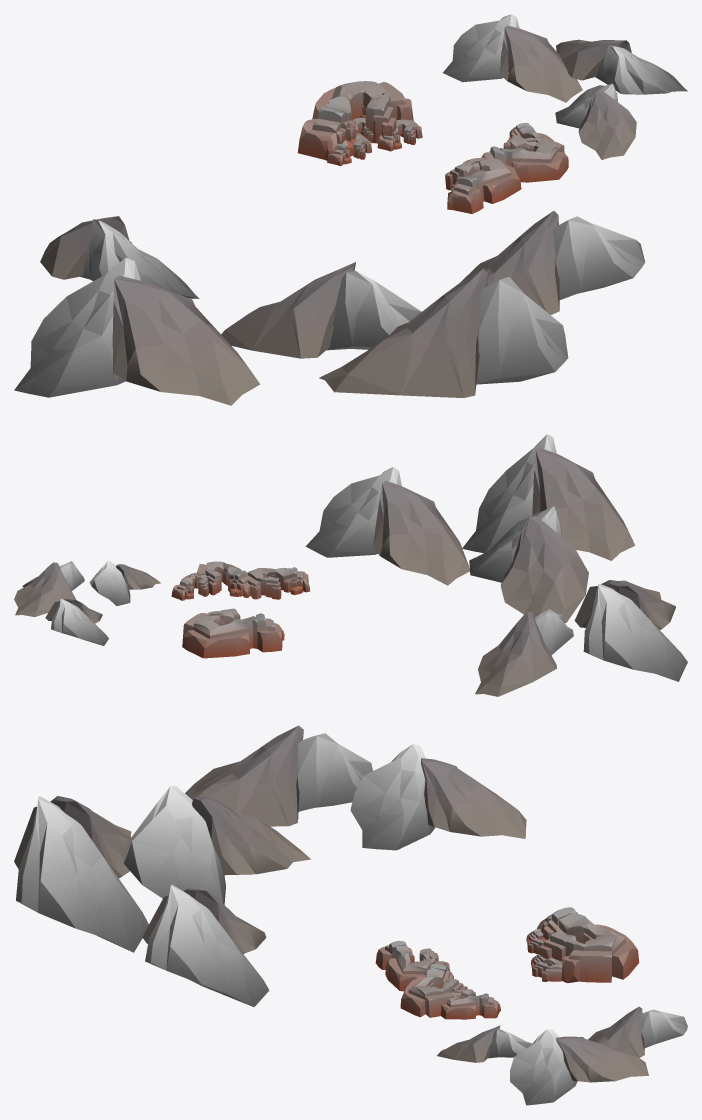
The picture shows the model from 3 angles, top to bottom: view 1: azimuth 30°, elevation 25°; view 2: azimuth 150°, elevation 25°; view 3: azimuth 270°, elevation 25°; orthographic projection. The views are drawn at different scales.
Visible parts, largest first — view 1: DoubleRockShape (1), DoubleRockShape (4), DoubleRockShape (3), DoubleRockShape (5), DoubleRockShape (8), QubicRocks1, DoubleRockShape (2), DoubleRockShape (6), DoubleRockShape (7), QubicRocks1 (6), QubicRocks1 (5), QubicRocks1 (2) (+1 smaller); view 2: DoubleRockShape (5), DoubleRockShape (4), DoubleRockShape (3), DoubleRockShape (1), DoubleRockShape (2), QubicRocks1, DoubleRockShape (6), DoubleRockShape (8), DoubleRockShape (7), QubicRocks1 (6), QubicRocks1 (5), QubicRocks1 (4); view 3: DoubleRockShape (4), DoubleRockShape (3), DoubleRockShape (2), DoubleRockShape (1), DoubleRockShape (5), DoubleRockShape (6), QubicRocks1, DoubleRockShape (8), QubicRocks1 (5), DoubleRockShape (7), QubicRocks1 (6), QubicRocks1 (4) (+1 smaller).
Part boxes in pixels (bbox=[...]): DoubleRockShape (1): bbox=[14, 257, 260, 405]; DoubleRockShape (4): bbox=[319, 268, 568, 397]; DoubleRockShape (3): bbox=[221, 262, 421, 358]; DoubleRockShape (5): bbox=[460, 211, 645, 314]; DoubleRockShape (8): bbox=[443, 14, 582, 102]; QubicRocks1: bbox=[297, 81, 413, 160]; DoubleRockShape (2): bbox=[40, 216, 199, 298]; DoubleRockShape (6): bbox=[556, 39, 687, 94]; DoubleRockShape (7): bbox=[555, 83, 636, 159]; QubicRocks1 (6): bbox=[445, 157, 521, 213]; QubicRocks1 (5): bbox=[480, 138, 568, 182]; QubicRocks1 (2): bbox=[377, 119, 422, 151]; DoubleRockShape (5): bbox=[306, 467, 469, 585]; DoubleRockShape (4): bbox=[462, 434, 635, 560]; DoubleRockShape (3): bbox=[469, 506, 588, 622]; DoubleRockShape (1): bbox=[574, 580, 687, 681]; DoubleRockShape (2): bbox=[475, 609, 573, 696]; QubicRocks1: bbox=[182, 608, 282, 658]; DoubleRockShape (6): bbox=[14, 561, 84, 616]; DoubleRockShape (8): bbox=[45, 598, 108, 645]; DoubleRockShape (7): bbox=[89, 561, 160, 605]; QubicRocks1 (6): bbox=[247, 567, 310, 599]; QubicRocks1 (5): bbox=[194, 561, 251, 597]; QubicRocks1 (4): bbox=[171, 572, 208, 600]; DoubleRockShape (4): bbox=[14, 796, 148, 952]; DoubleRockShape (3): bbox=[123, 786, 310, 904]; DoubleRockShape (2): bbox=[350, 744, 526, 850]; DoubleRockShape (1): bbox=[185, 725, 372, 826]; DoubleRockShape (5): bbox=[142, 884, 269, 1006]; DoubleRockShape (6): bbox=[510, 1029, 648, 1105]; QubicRocks1: bbox=[537, 907, 639, 982]; DoubleRockShape (8): bbox=[588, 1006, 687, 1057]; QubicRocks1 (5): bbox=[400, 963, 467, 1017]; DoubleRockShape (7): bbox=[437, 1025, 532, 1062]; QubicRocks1 (6): bbox=[375, 940, 449, 991]; QubicRocks1 (4): bbox=[441, 989, 500, 1019].
Bounding box in the file's own units: 878 × 156 × 712.
1 material, 1 textured.
